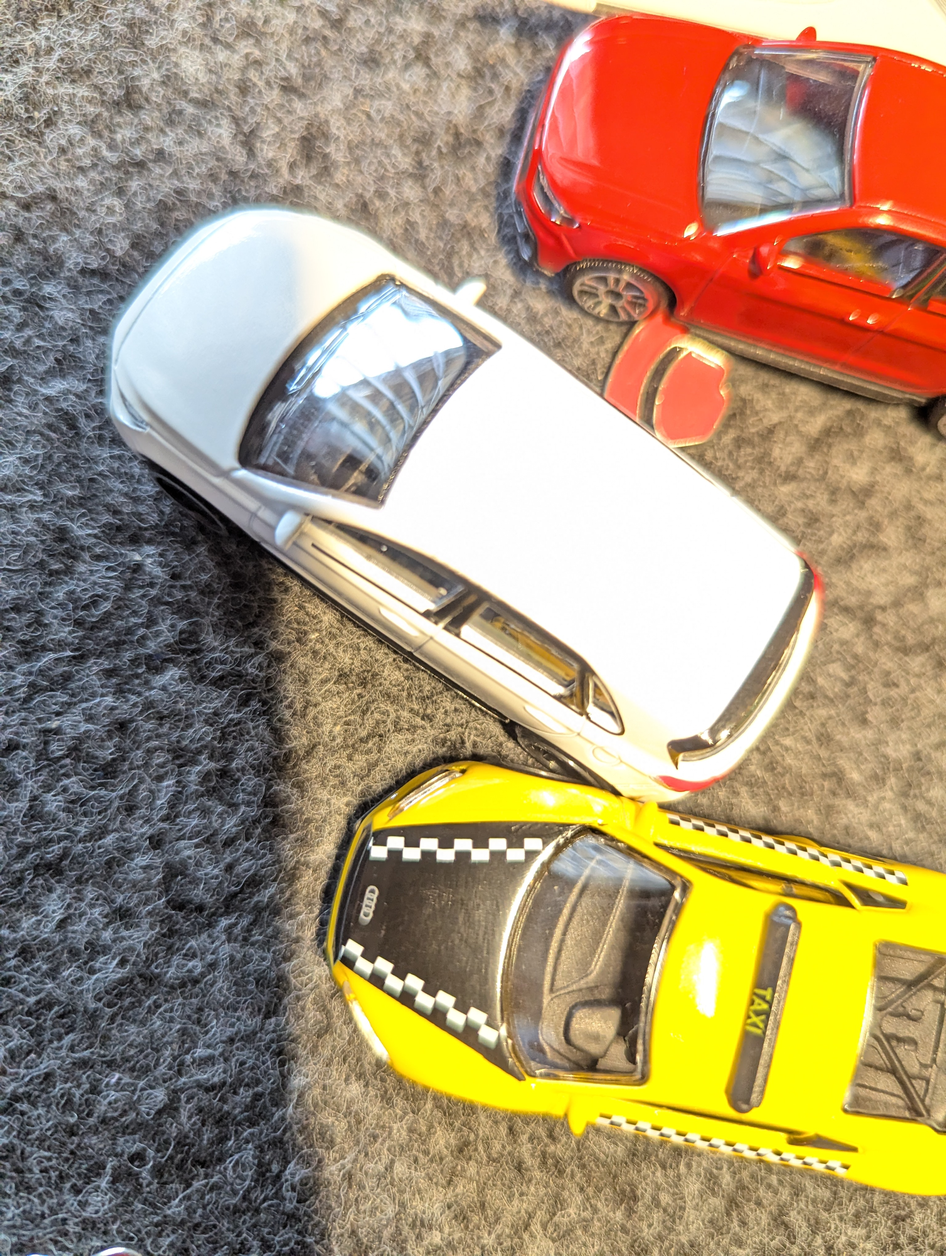Car: (63, 163, 867, 832), (293, 741, 946, 1212), (478, 2, 946, 447)
Red-Hat: (578, 278, 759, 464)
